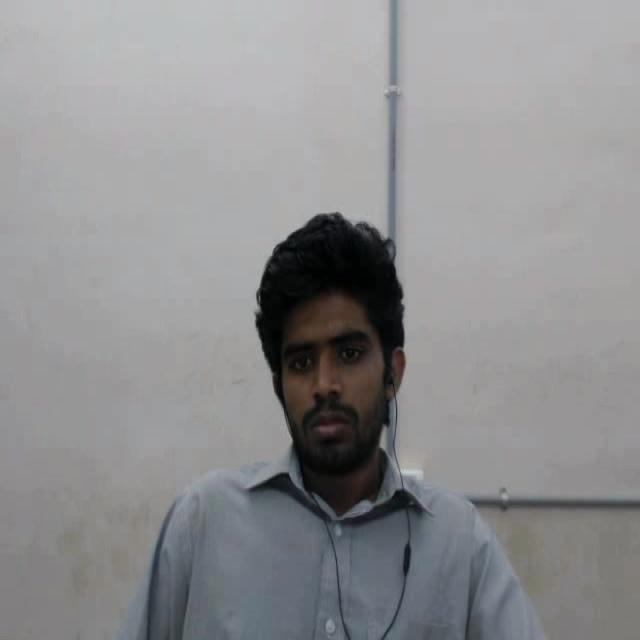Bored: (240, 201, 428, 514)
